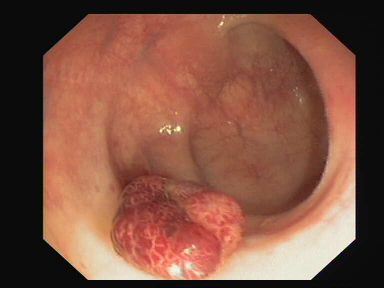polyp: (91, 142, 267, 288)
